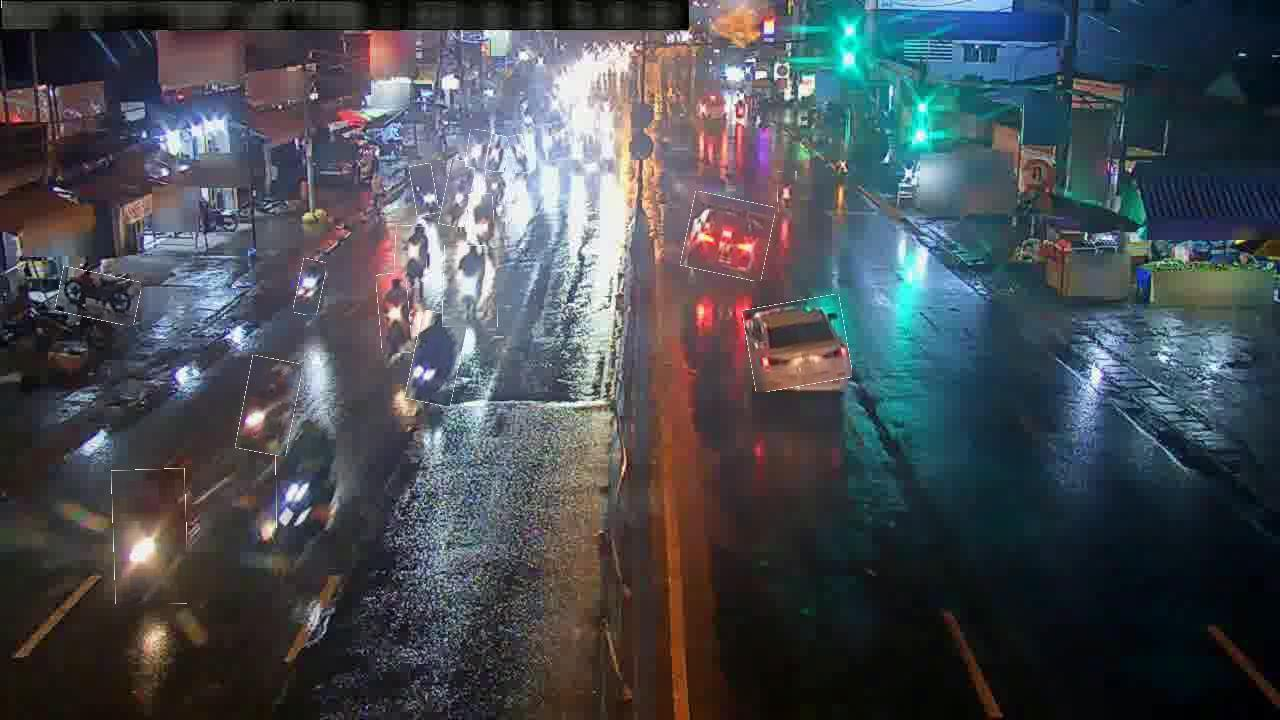container: (746, 298, 850, 390), (684, 195, 773, 279)
motorbike: (112, 469, 187, 605), (239, 357, 298, 455), (276, 421, 327, 529), (410, 312, 464, 406), (443, 246, 499, 328), (57, 270, 141, 323), (378, 274, 411, 354), (442, 160, 473, 228), (395, 226, 428, 283), (296, 259, 325, 316), (411, 164, 437, 216), (469, 194, 495, 241), (483, 164, 508, 205), (486, 135, 509, 173), (778, 171, 798, 213), (467, 130, 489, 168), (509, 135, 528, 174)
